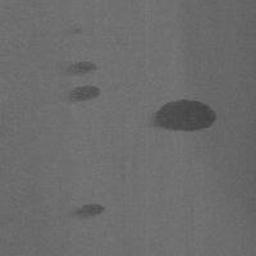Oil spot: (147, 97, 218, 133), (59, 83, 102, 106), (67, 201, 106, 224), (52, 60, 99, 78)
